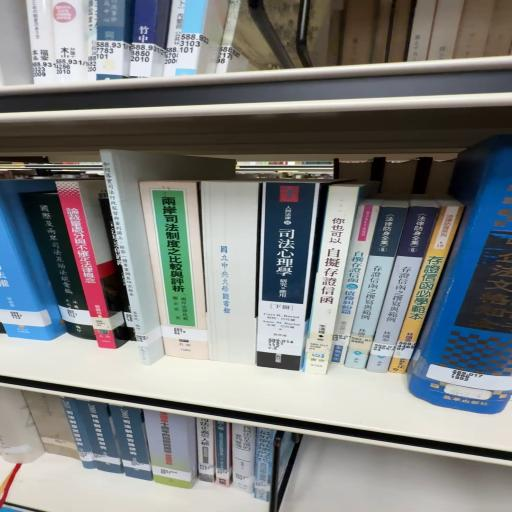backward: (202, 181, 262, 367)
book: (1, 169, 125, 343), (138, 180, 208, 360)
